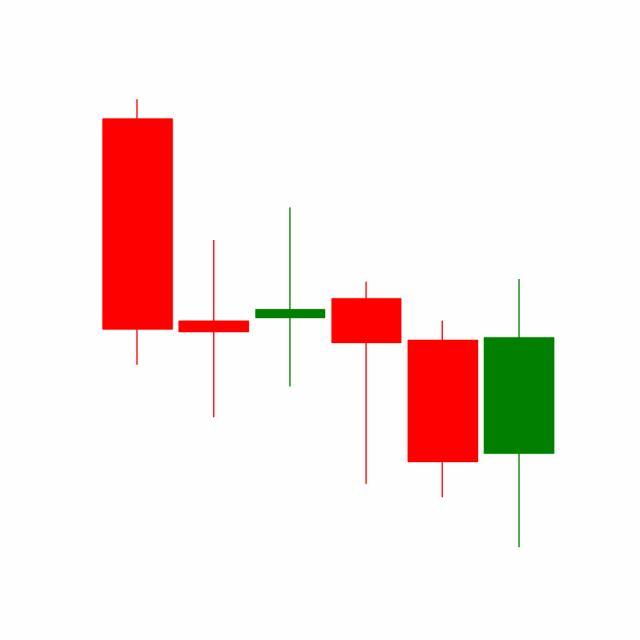Three Outside Up-Down: (252, 204, 482, 501)
